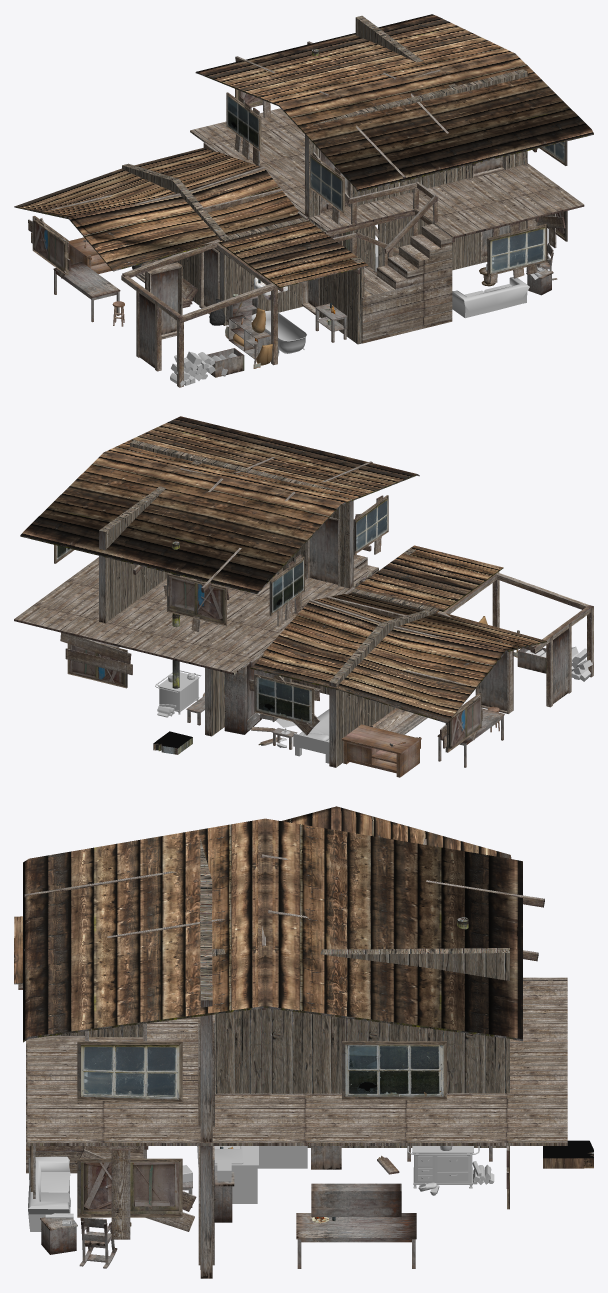
Rendered from Bacinica.FBX.
3 renders of one model, top to bottom at view 1: azimuth 30°, elevation 25°; view 2: azimuth 150°, elevation 25°; view 3: azimuth 270°, elevation 25°, orthographic. The views are drawn at different scales.
Parts seen in each view (by area): view 1: Techo1, Techo2, Piso2, UTypeStair001, Pared1Centro, Pared2Eje, Ventanas2-1, Ventana1-3, Pared1Lavado, Pared1Taller, Sillon, mesa003 (+18 smaller); view 2: Techo1, Techo2, Piso2, Pared2Sep, Pared1Taller, Ventanas1-1, MesonCarp, Pared2Eje, Ventanas2-1, Ventana2-1, Armario, Puerta006 (+15 smaller); view 3: Techo1, Piso2, Pared2Sep, Ventanas2-2, Ventana1-4, Techo2, Pared2Eje, mesa, Box003, Lavaplatos, Sillon, Cocina (+11 smaller).
Boxes of the visible parts, x1,y1,x2,y2 form: Techo1: (195, 14, 593, 192); Techo2: (14, 147, 368, 287); Piso2: (190, 108, 584, 238); UTypeStair001: (357, 223, 452, 343); Pared1Centro: (220, 215, 526, 325); Pared2Eje: (305, 69, 527, 217); Ventanas2-1: (226, 92, 344, 214); Ventana1-3: (487, 224, 547, 276); Pared1Lavado: (319, 256, 364, 344); Pared1Taller: (122, 163, 227, 307); Sillon: (452, 277, 529, 318); mesa003: (53, 261, 120, 322); Techo1: (20, 416, 419, 594); Techo2: (250, 545, 546, 723); Piso2: (14, 557, 371, 674); Pared2Sep: (99, 460, 201, 623); Pared1Taller: (329, 609, 435, 767); Ventanas1-1: (67, 636, 314, 726); MesonCarp: (341, 724, 421, 777); Pared2Eje: (130, 440, 353, 588); Ventanas2-1: (269, 495, 388, 615); Ventana2-1: (167, 573, 226, 625); Armario: (224, 664, 277, 734); Puerta006: (309, 518, 337, 584); Techo1: (23, 818, 522, 1042); Piso2: (27, 977, 567, 1145); Pared2Sep: (212, 948, 509, 1093); Ventanas2-2: (77, 1041, 446, 1103); Ventana1-4: (77, 1158, 182, 1217); Techo2: (14, 806, 511, 984); Pared2Eje: (200, 838, 212, 1142); mesa: (296, 1213, 416, 1268); Box003: (311, 1183, 401, 1216); Lavaplatos: (214, 1146, 307, 1203); Sillon: (28, 1156, 70, 1231); Cocina: (407, 1146, 479, 1188).
Size of the model in its own units: 495 by 209 by 380.
